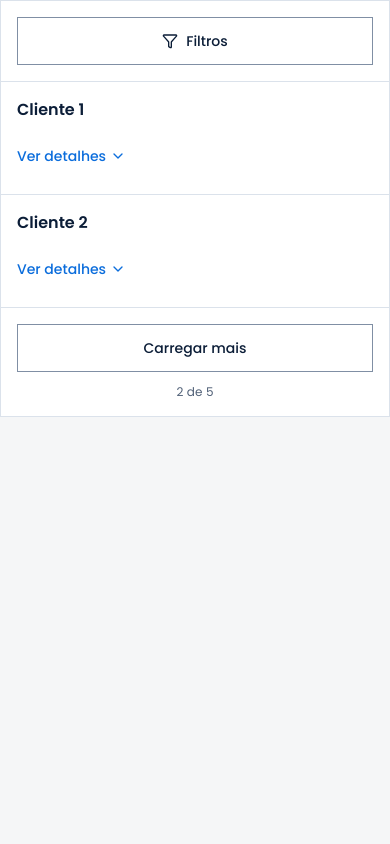
Test: Table › remoto: carregar mais soma linhas ao card, mantendo as que já apareciam
Expected: the text "Cliente 1" is shown, [17,98,84,121]
Expected: the text "Cliente 2" is shown, [17,211,88,234]
Click the button "Carregar mais" at (195, 348), box [17,324,373,372]
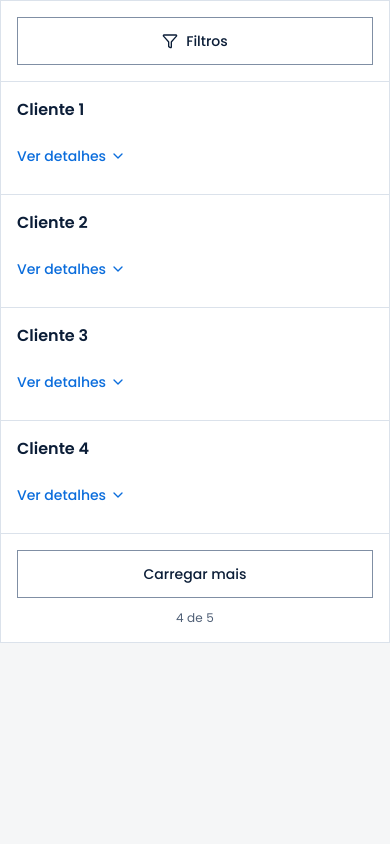
Expected: the text "Cliente 1" is shown, [17,98,84,121]
Result: the text "Cliente 3" is shown at [17,324,88,347]
